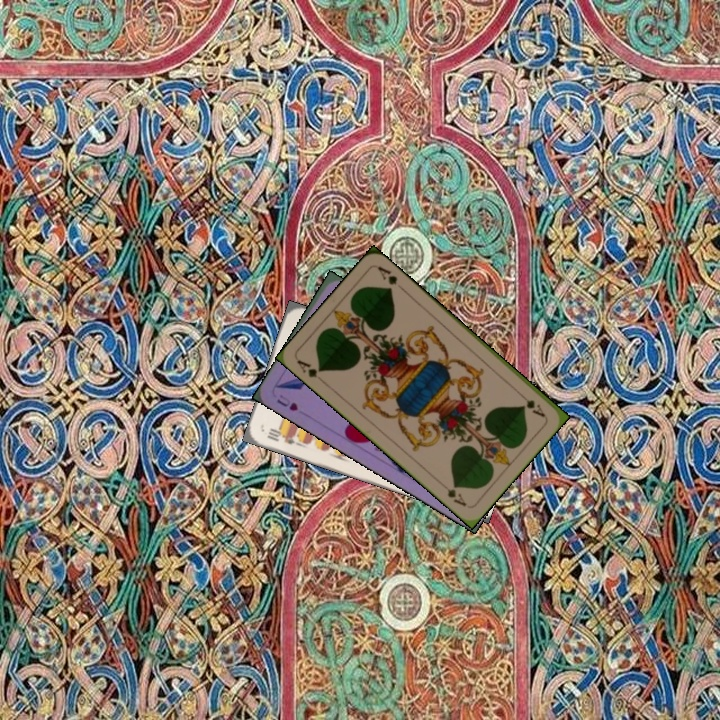E10: (263, 425, 297, 447)
GA: (293, 355, 326, 386), (515, 389, 548, 420)
HU: (272, 391, 301, 414)
